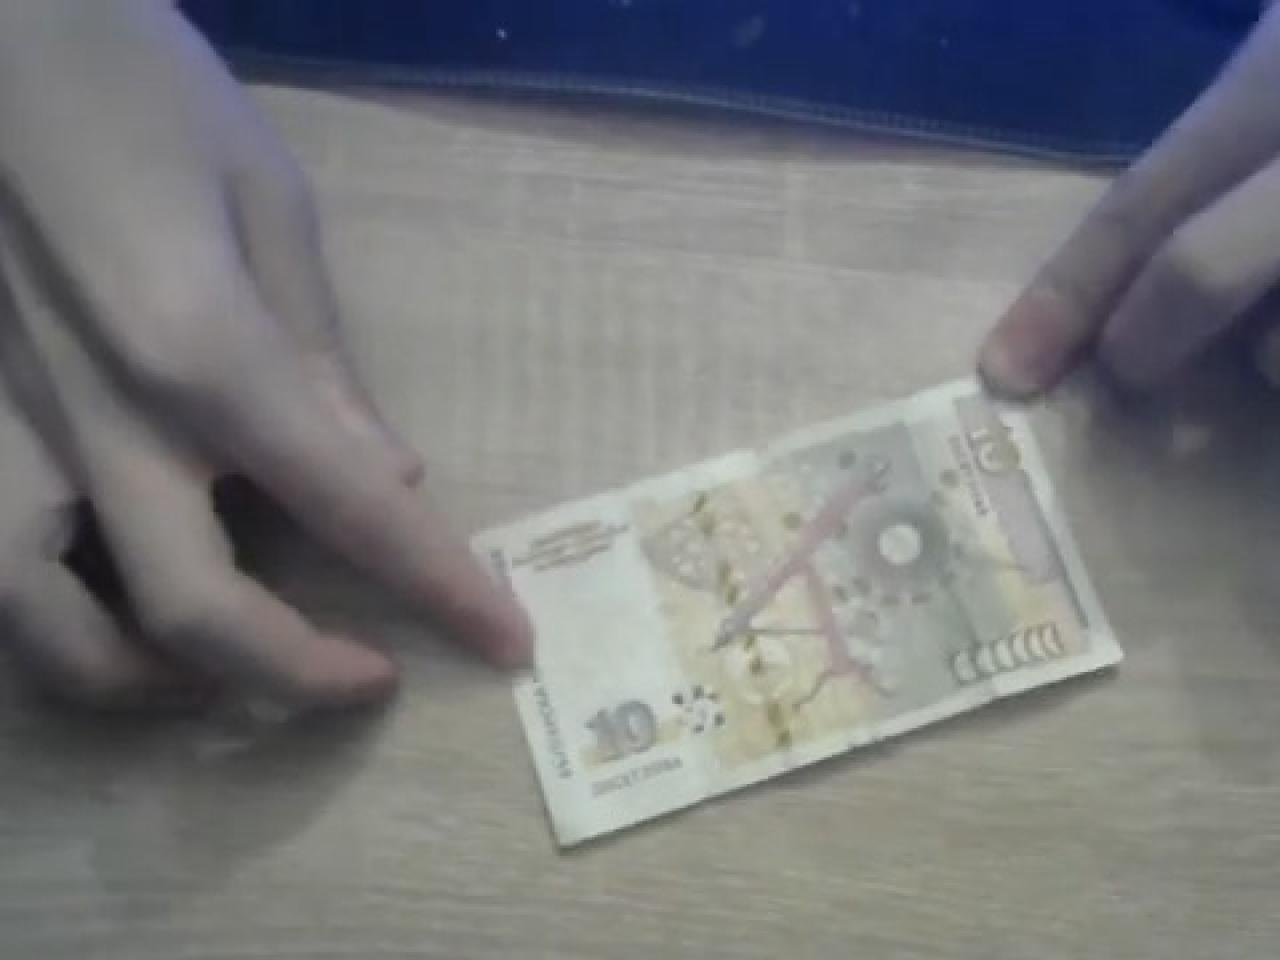10leva: (472, 381, 1128, 856)
